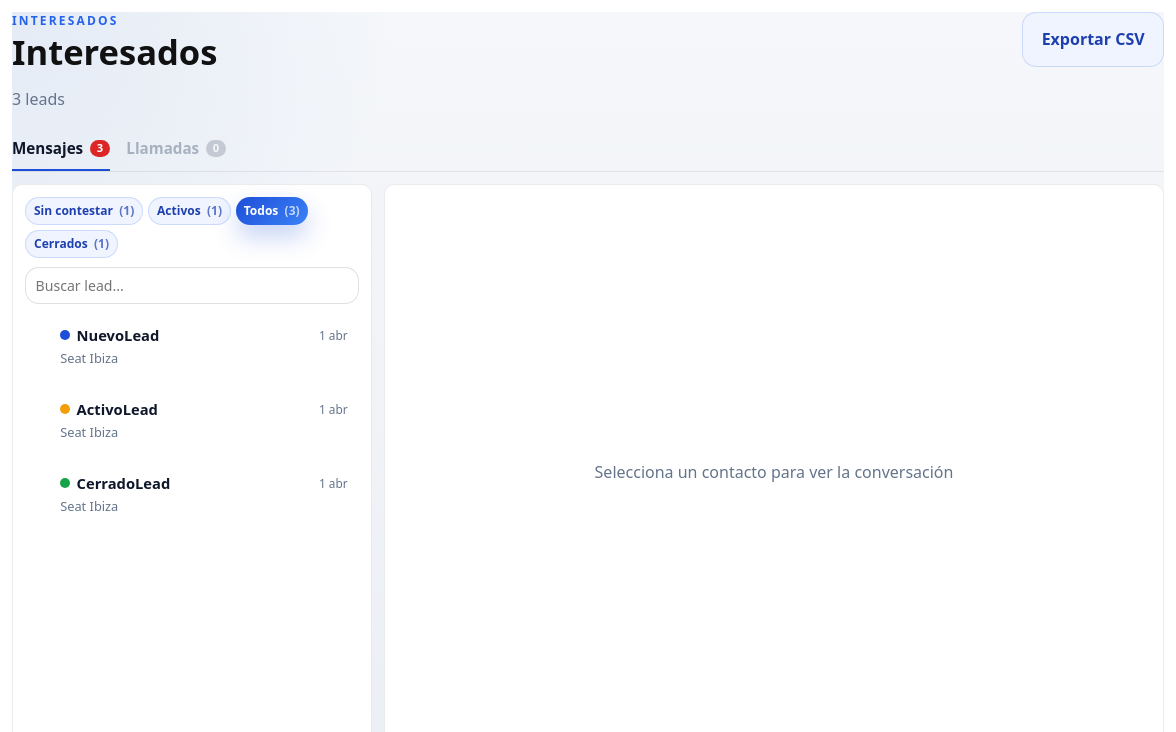
Test: LeadsList — status filters › "Activos" filter excludes nuevos and cerrados
Click the button "Activos (1)" at point(190, 211), box [148,197,231,225]
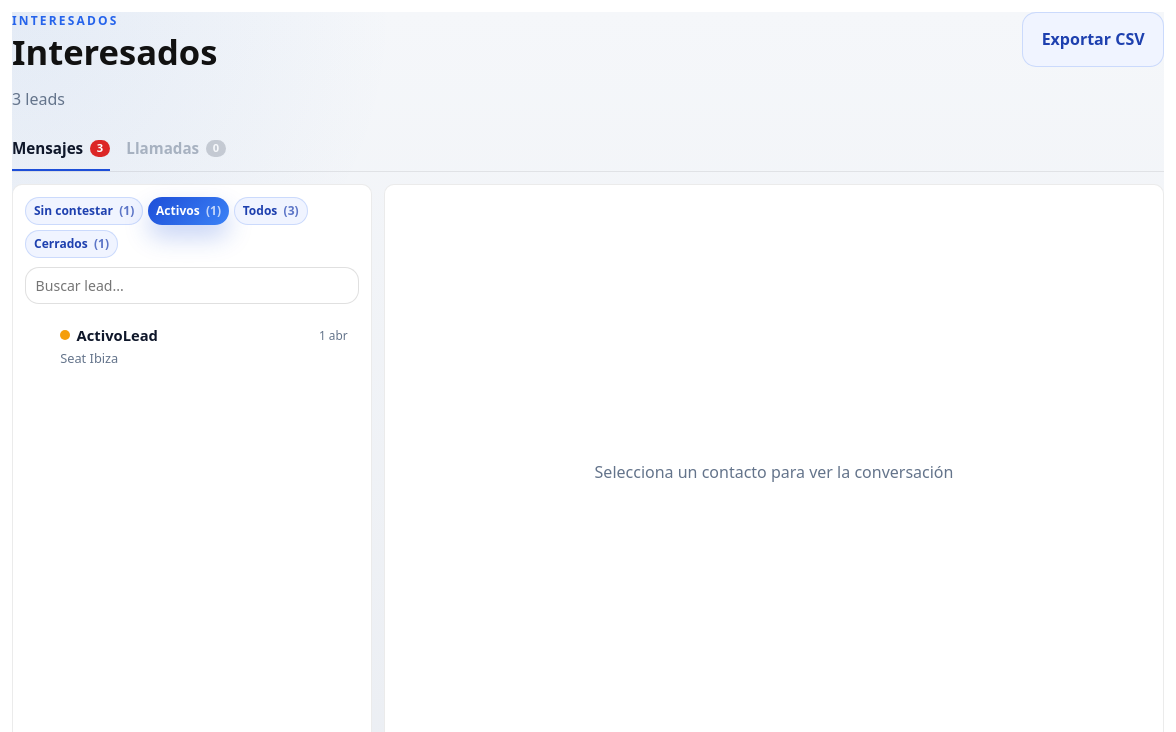
Expected: the text "ActivoLead" is shown, [60,324,158,346]
Expected: the option "NuevoLead" is gone
Expected: the option "CerradoLead" is gone
